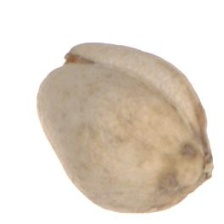L1: (36, 44, 95, 106), (194, 129, 215, 184)
L2: (36, 42, 214, 213)
